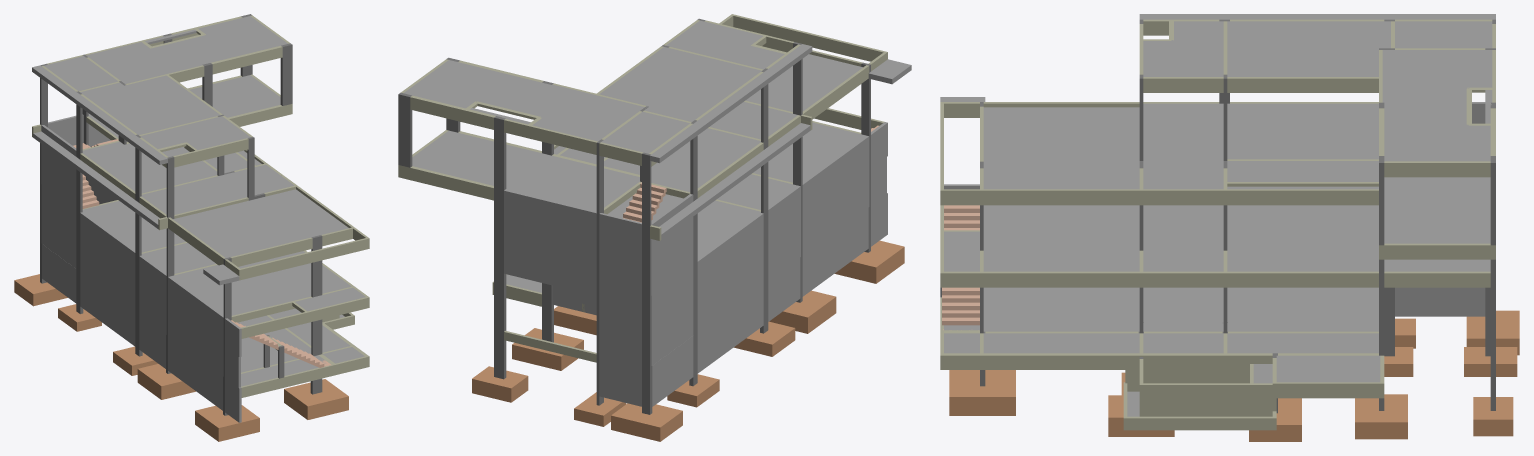
The model's file is casa-penha.glb.
3 renders of one model, left to right at view 1: azimuth 30°, elevation 25°; view 2: azimuth 150°, elevation 25°; view 3: azimuth 270°, elevation 25°, orthographic. The views are drawn at different scales.
Visible parts, largest first — view 1: product-30a6da7b-86ab-11ec-a6c0-7cb27d09bab3-body, product-0370db77-86e6-11ec-a6c1-7cb27d09bab3-body, product-6f794b03-86ad-11ec-a6c0-7cb27d09bab3-body, product-3e850575-86a8-11ec-a6c0-7cb27d09bab3-body, product-3435a5ae-86ab-11ec-a6c0-7cb27d09bab3-body, product-d923cc60-86b2-11ec-a6c0-7cb27d09bab3-body, product-92fa8ab8-8773-11ec-a6c1-7cb27d09bab3-body, product-d02080df-86c9-11ec-a6c0-7cb27d09bab3-body, product-05963bf0-86cd-11ec-a6c0-7cb27d09bab3-body, product-d6b36ed8-86a7-11ec-a6c0-7cb27d09bab3-body, product-d6b36eec-86a7-11ec-a6c0-7cb27d09bab3-body, product-b25d499f-876d-11ec-a6c1-7cb27d09bab3-body (+61 smaller); view 2: product-0370db77-86e6-11ec-a6c1-7cb27d09bab3-body, product-92fa8ab8-8773-11ec-a6c1-7cb27d09bab3-body, product-6f794b03-86ad-11ec-a6c0-7cb27d09bab3-body, product-7b1b32a2-8773-11ec-a6c1-7cb27d09bab3-body, product-d923cc60-86b2-11ec-a6c0-7cb27d09bab3-body, product-7b1b32ca-8773-11ec-a6c1-7cb27d09bab3-body, product-05963bf0-86cd-11ec-a6c0-7cb27d09bab3-body, product-30a6da7b-86ab-11ec-a6c0-7cb27d09bab3-body, product-d6b36ed8-86a7-11ec-a6c0-7cb27d09bab3-body, product-d6b36eec-86a7-11ec-a6c0-7cb27d09bab3-body, product-3e850575-86a8-11ec-a6c0-7cb27d09bab3-body, product-b25d499f-876d-11ec-a6c1-7cb27d09bab3-body (+62 smaller); view 3: product-30a6da7b-86ab-11ec-a6c0-7cb27d09bab3-body, product-0370db77-86e6-11ec-a6c1-7cb27d09bab3-body, product-3e850575-86a8-11ec-a6c0-7cb27d09bab3-body, product-d02080df-86c9-11ec-a6c0-7cb27d09bab3-body, product-6f794b03-86ad-11ec-a6c0-7cb27d09bab3-body, product-d923cc60-86b2-11ec-a6c0-7cb27d09bab3-body, product-92fa8ab8-8773-11ec-a6c1-7cb27d09bab3-body, product-912503c4-86a4-11ec-a6c0-7cb27d09bab3-body, product-3435a5ae-86ab-11ec-a6c0-7cb27d09bab3-body, product-b0748c46-86c9-11ec-a6c0-7cb27d09bab3-body, product-4c976b22-86a8-11ec-a6c0-7cb27d09bab3-body, product-05963bf0-86cd-11ec-a6c0-7cb27d09bab3-body (+50 smaller).
Boxes of the visible parts, left/top/right/bottom form: product-30a6da7b-86ab-11ec-a6c0-7cb27d09bab3-body: left=173, top=189, right=348, bottom=257; product-0370db77-86e6-11ec-a6c1-7cb27d09bab3-body: left=86, top=16, right=287, bottom=83; product-6f794b03-86ad-11ec-a6c0-7cb27d09bab3-body: left=80, top=75, right=220, bottom=134; product-3e850575-86a8-11ec-a6c0-7cb27d09bab3-body: left=171, top=251, right=351, bottom=315; product-3435a5ae-86ab-11ec-a6c0-7cb27d09bab3-body: left=141, top=164, right=293, bottom=214; product-d923cc60-86b2-11ec-a6c0-7cb27d09bab3-body: left=82, top=141, right=217, bottom=193; product-92fa8ab8-8773-11ec-a6c1-7cb27d09bab3-body: left=88, top=75, right=280, bottom=142; product-d02080df-86c9-11ec-a6c0-7cb27d09bab3-body: left=82, top=201, right=185, bottom=252; product-05963bf0-86cd-11ec-a6c0-7cb27d09bab3-body: left=140, top=116, right=250, bottom=149; product-d6b36ed8-86a7-11ec-a6c0-7cb27d09bab3-body: left=80, top=272, right=135, bottom=346; product-d6b36eec-86a7-11ec-a6c0-7cb27d09bab3-body: left=168, top=336, right=222, bottom=410; product-b25d499f-876d-11ec-a6c1-7cb27d09bab3-body: left=168, top=305, right=223, bottom=376; product-0370db77-86e6-11ec-a6c1-7cb27d09bab3-body: left=404, top=60, right=644, bottom=141; product-92fa8ab8-8773-11ec-a6c1-7cb27d09bab3-body: left=412, top=130, right=639, bottom=211; product-6f794b03-86ad-11ec-a6c0-7cb27d09bab3-body: left=599, top=47, right=761, bottom=121; product-7b1b32a2-8773-11ec-a6c1-7cb27d09bab3-body: left=504, top=224, right=596, bottom=296; product-d923cc60-86b2-11ec-a6c0-7cb27d09bab3-body: left=604, top=128, right=760, bottom=191; product-7b1b32ca-8773-11ec-a6c1-7cb27d09bab3-body: left=504, top=189, right=596, bottom=246; product-05963bf0-86cd-11ec-a6c0-7cb27d09bab3-body: left=666, top=20, right=784, bottom=69; product-30a6da7b-86ab-11ec-a6c0-7cb27d09bab3-body: left=745, top=54, right=862, bottom=111; product-d6b36ed8-86a7-11ec-a6c0-7cb27d09bab3-body: left=697, top=284, right=763, bottom=373; product-d6b36eec-86a7-11ec-a6c0-7cb27d09bab3-body: left=802, top=207, right=868, bottom=296; product-3e850575-86a8-11ec-a6c0-7cb27d09bab3-body: left=753, top=122, right=865, bottom=182; product-b25d499f-876d-11ec-a6c1-7cb27d09bab3-body: left=802, top=170, right=869, bottom=255; product-30a6da7b-86ab-11ec-a6c0-7cb27d09bab3-body: left=983, top=107, right=1139, bottom=189; product-0370db77-86e6-11ec-a6c1-7cb27d09bab3-body: left=1382, top=50, right=1492, bottom=161; product-3e850575-86a8-11ec-a6c0-7cb27d09bab3-body: left=983, top=205, right=1139, bottom=271; product-d02080df-86c9-11ec-a6c0-7cb27d09bab3-body: left=1227, top=205, right=1378, bottom=271; product-6f794b03-86ad-11ec-a6c0-7cb27d09bab3-body: left=1227, top=21, right=1390, bottom=76; product-d923cc60-86b2-11ec-a6c0-7cb27d09bab3-body: left=1227, top=103, right=1378, bottom=159; product-92fa8ab8-8773-11ec-a6c1-7cb27d09bab3-body: left=1384, top=177, right=1490, bottom=243; product-912503c4-86a4-11ec-a6c0-7cb27d09bab3-body: left=983, top=287, right=1139, bottom=331; product-3435a5ae-86ab-11ec-a6c0-7cb27d09bab3-body: left=1143, top=103, right=1223, bottom=189; product-b0748c46-86c9-11ec-a6c0-7cb27d09bab3-body: left=1227, top=287, right=1378, bottom=331; product-4c976b22-86a8-11ec-a6c0-7cb27d09bab3-body: left=1143, top=205, right=1223, bottom=271; product-05963bf0-86cd-11ec-a6c0-7cb27d09bab3-body: left=1143, top=21, right=1223, bottom=76.
Bounding box in the file's own units: 13.95 × 13.26 × 21.8.
